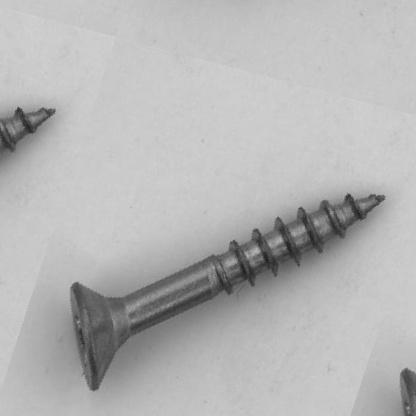metal: (69, 192, 388, 392)
